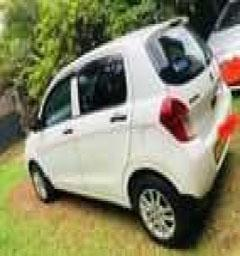car: (22, 6, 235, 246)
